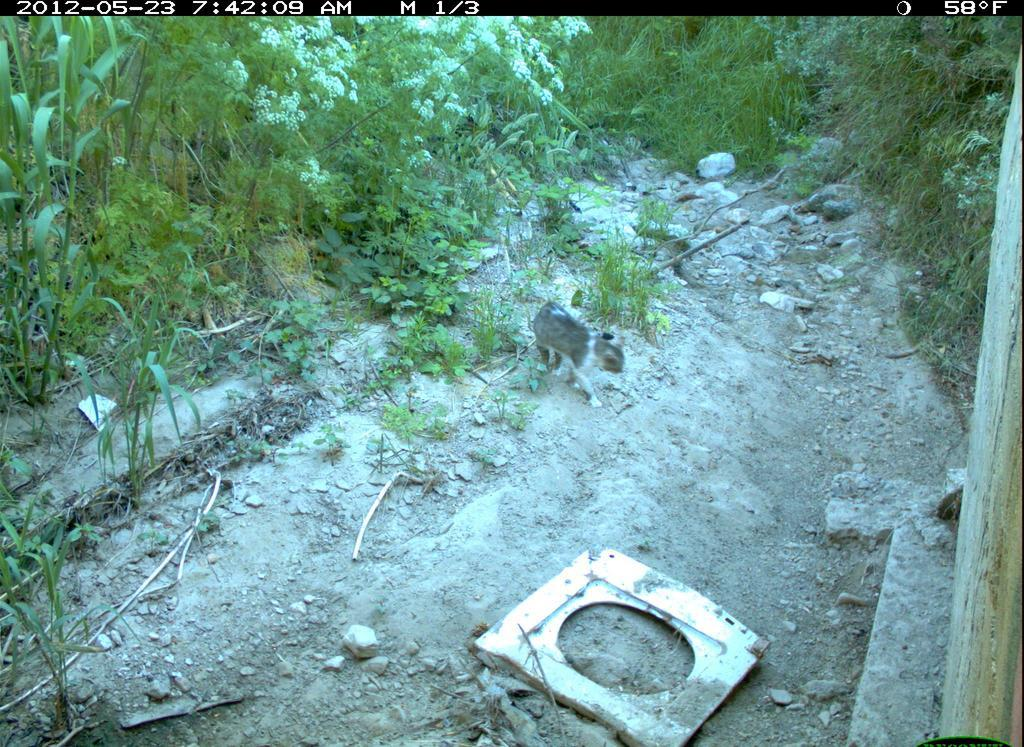cat: (521, 295, 634, 415)
